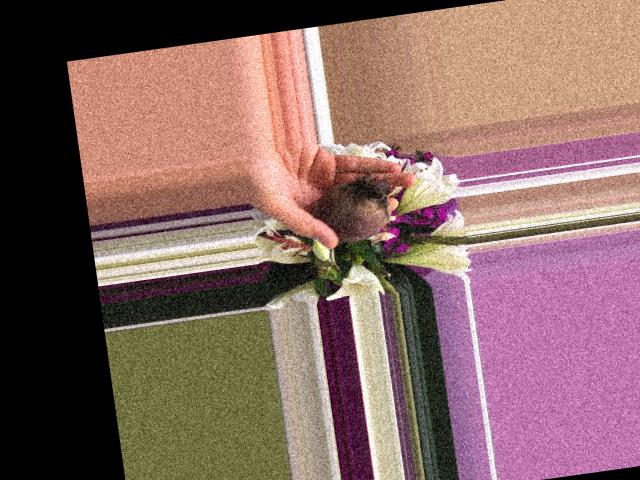beet: (310, 175, 401, 275)
